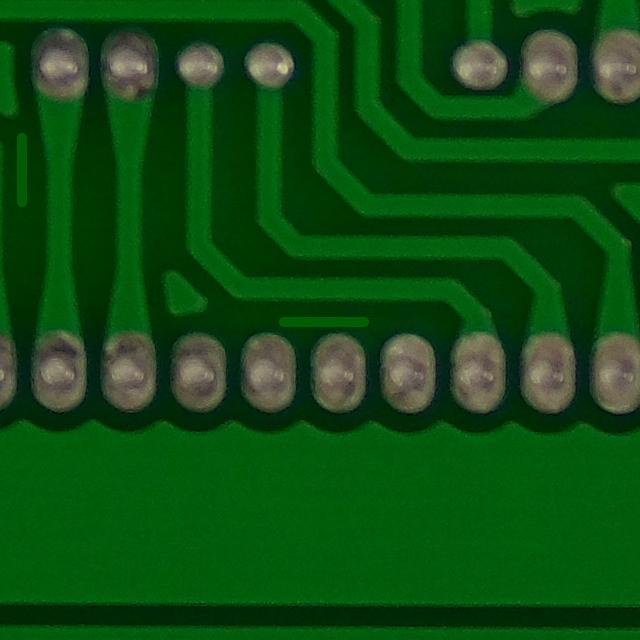spurious_copper: (261, 298, 380, 343)
